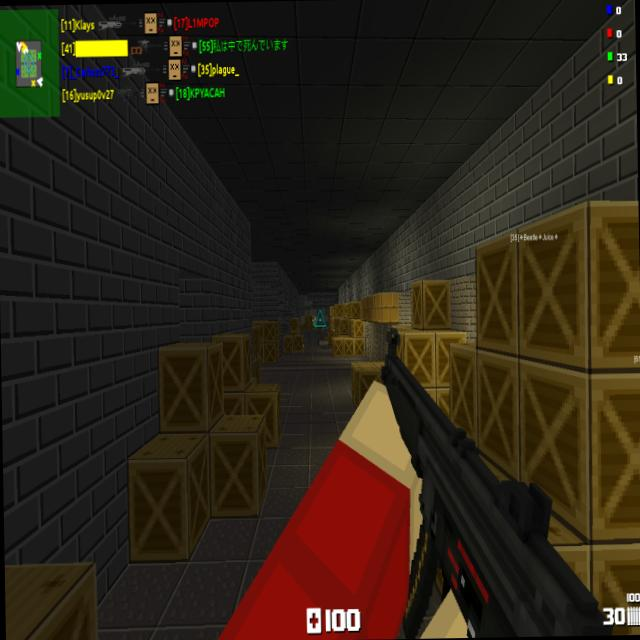enemy: (312, 314, 316, 328)
